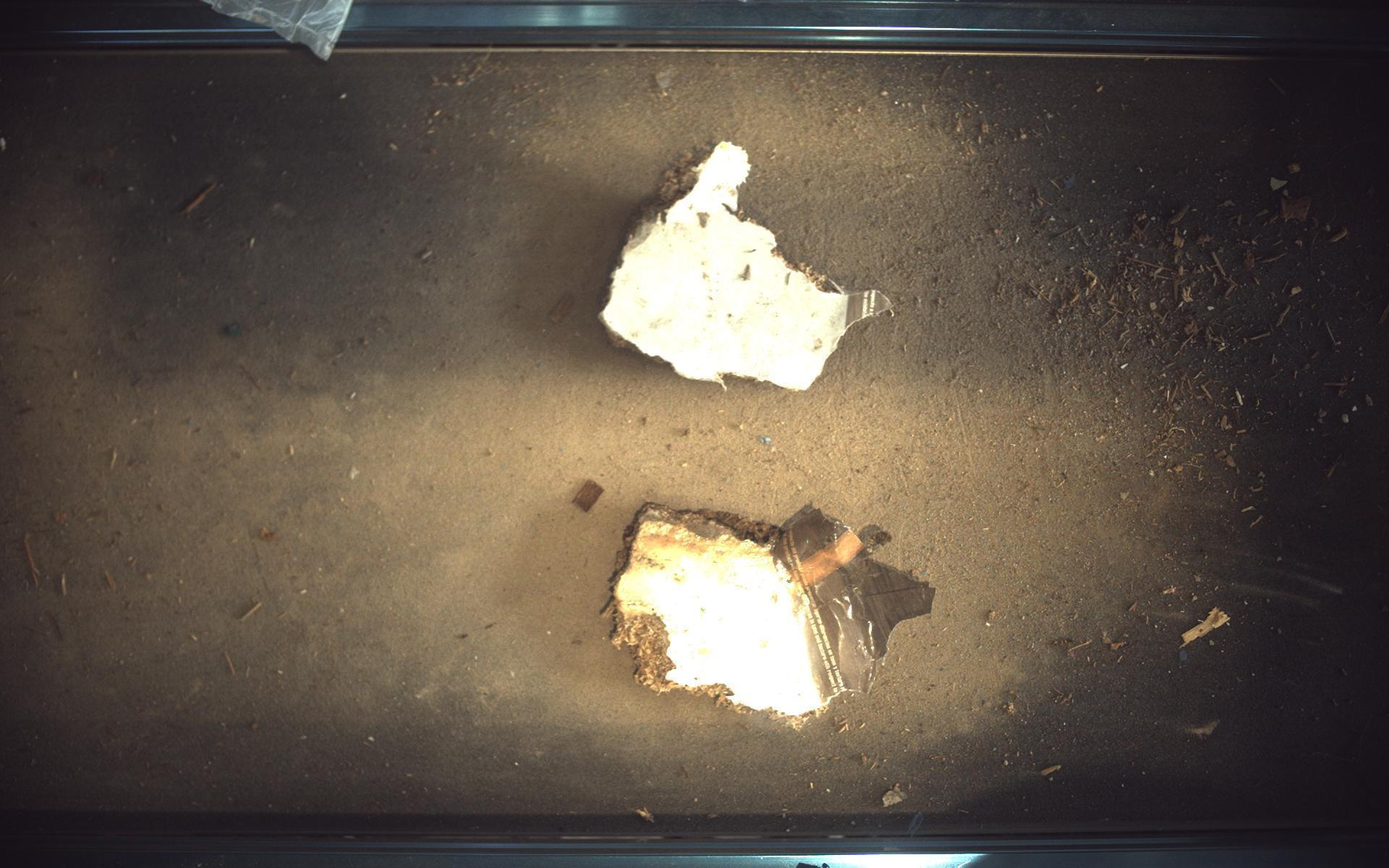wood: (602, 140, 893, 390), (604, 503, 936, 719)
